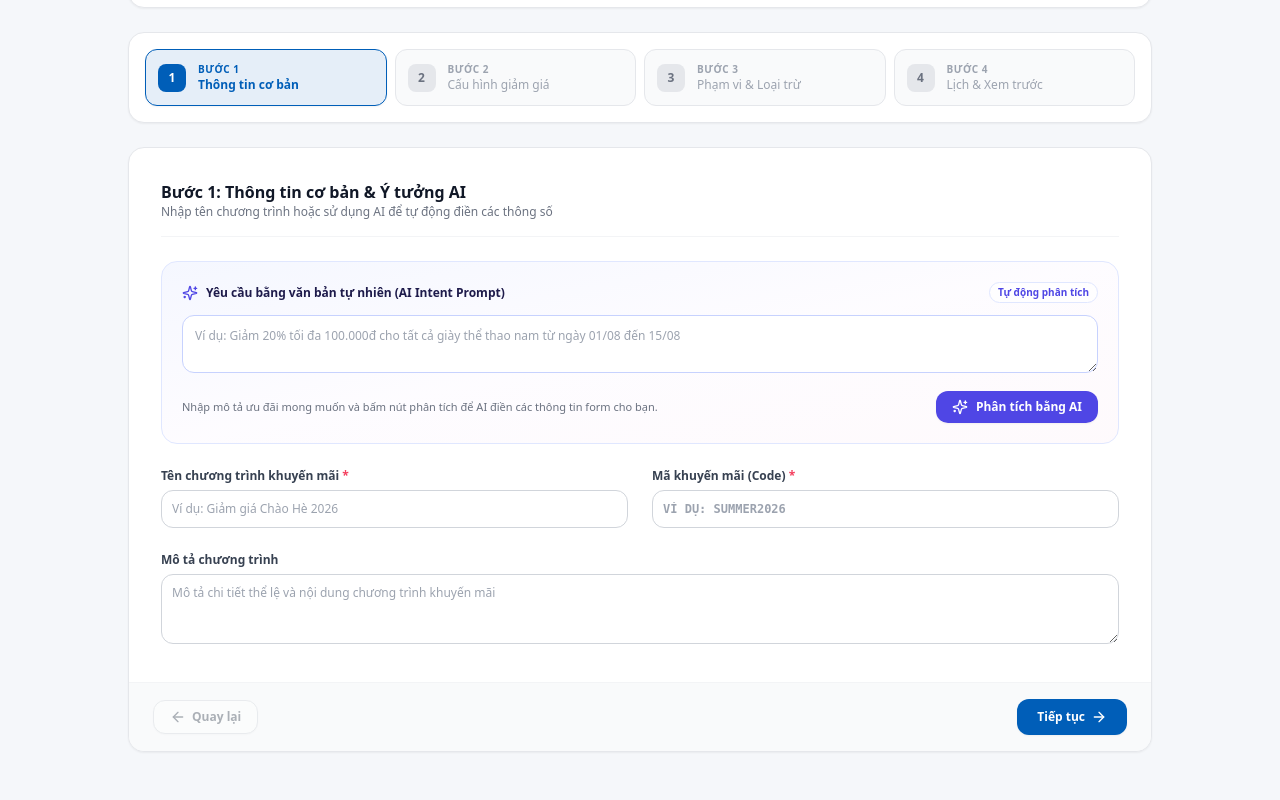
PromotionForm Component Tests › 2. Validates Step 1 required fields when clicking Next
(page scrolled)
Click the button "Tiếp tục" at point(1072, 717), box [1017,699,1127,735]
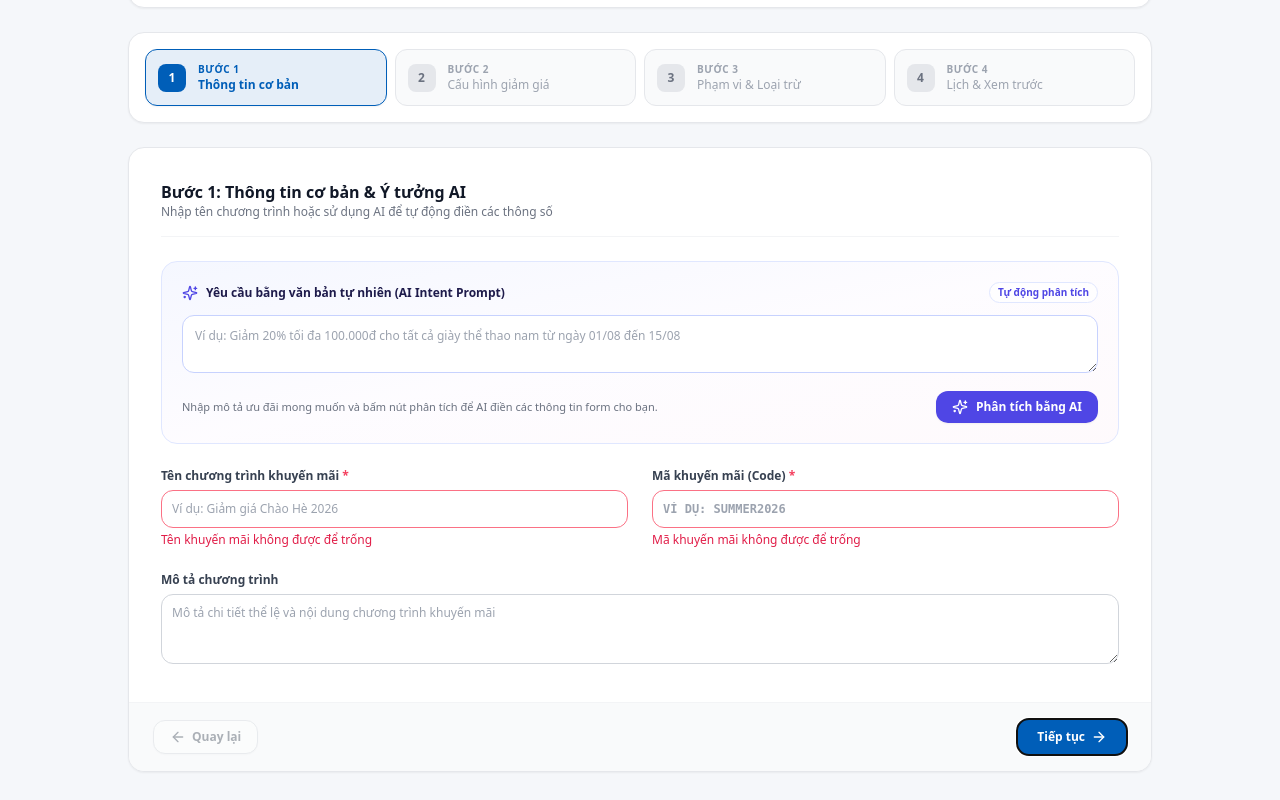
Expected: the text "Tên khuyến mãi không được để trống" is shown, [161,531,372,548]
Expected: the text "Mã khuyến mãi không được để trống" is shown, [652,531,861,548]
